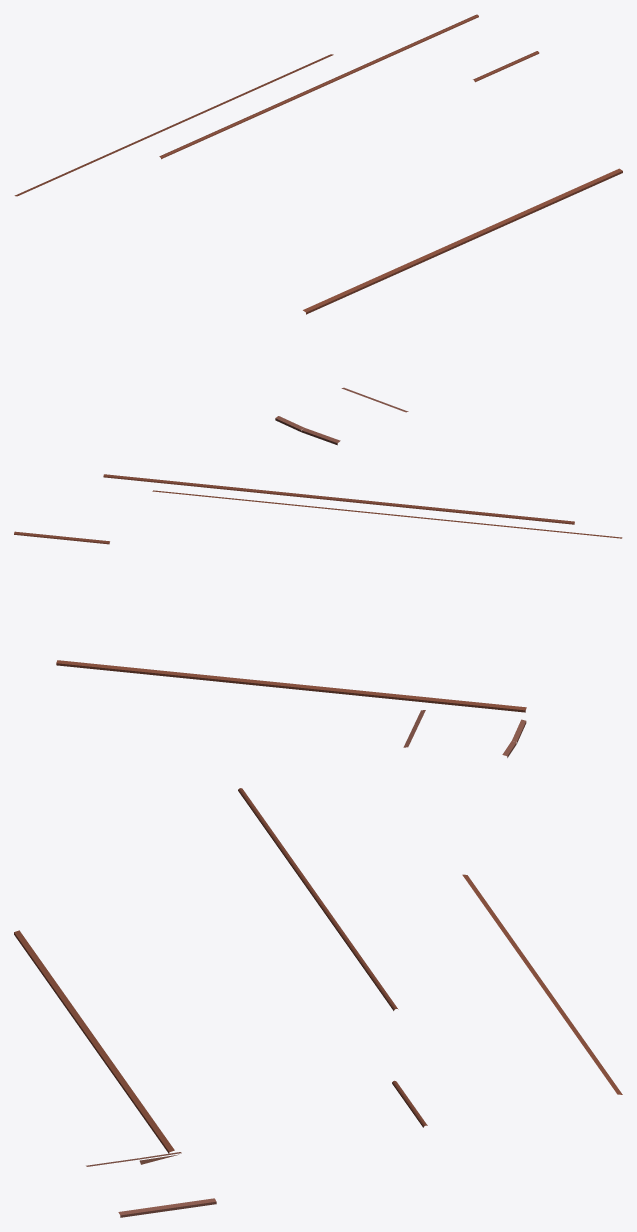
3 views of the same model, one above another, from view 1: azimuth 30°, elevation 25°; view 2: azimuth 150°, elevation 25°; view 3: azimuth 270°, elevation 25° (orthographic). The views are drawn at different scales.
Parts seen in each view (by area): view 1: detail; view 2: detail; view 3: detail.
Part boxes in pixels (x1=…): detail: x1=14, y1=14, x2=622, y2=445; detail: x1=14, y1=474, x2=622, y2=757; detail: x1=14, y1=788, x2=622, y2=1217.
Size of the model in its own units: 38.33 by 19.5 by 33.86.
